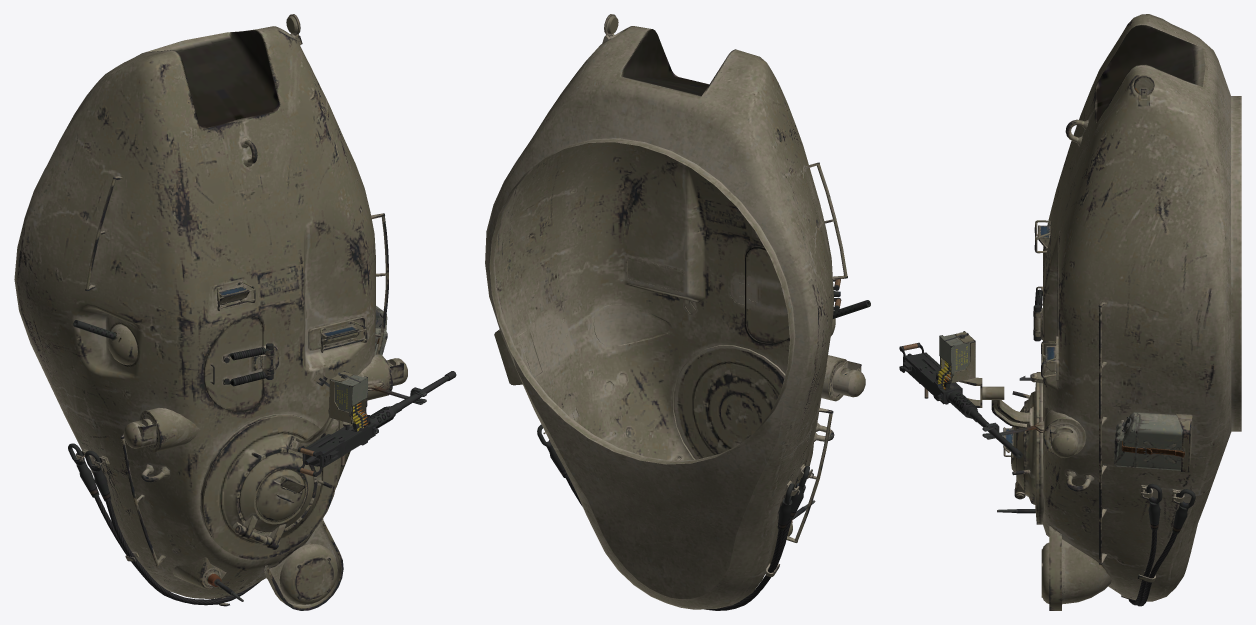
File: Turret_01.glb
3 views of the same model, side by side, from view 1: azimuth 30°, elevation 25°; view 2: azimuth 150°, elevation 25°; view 3: azimuth 270°, elevation 25° (orthographic). The views are drawn at different scales.
Visible parts, largest first — view 1: set_0_group_0; view 2: set_0_group_0; view 3: set_0_group_0.
Boxes of the visible parts, <box> form: set_0_group_0: <box>14,14,456,610</box>; set_0_group_0: <box>485,14,870,610</box>; set_0_group_0: <box>899,14,1241,610</box>.
Bounding box in the file's own units: 2.47 × 3.96 × 2.19.
1 material, 1 textured.
